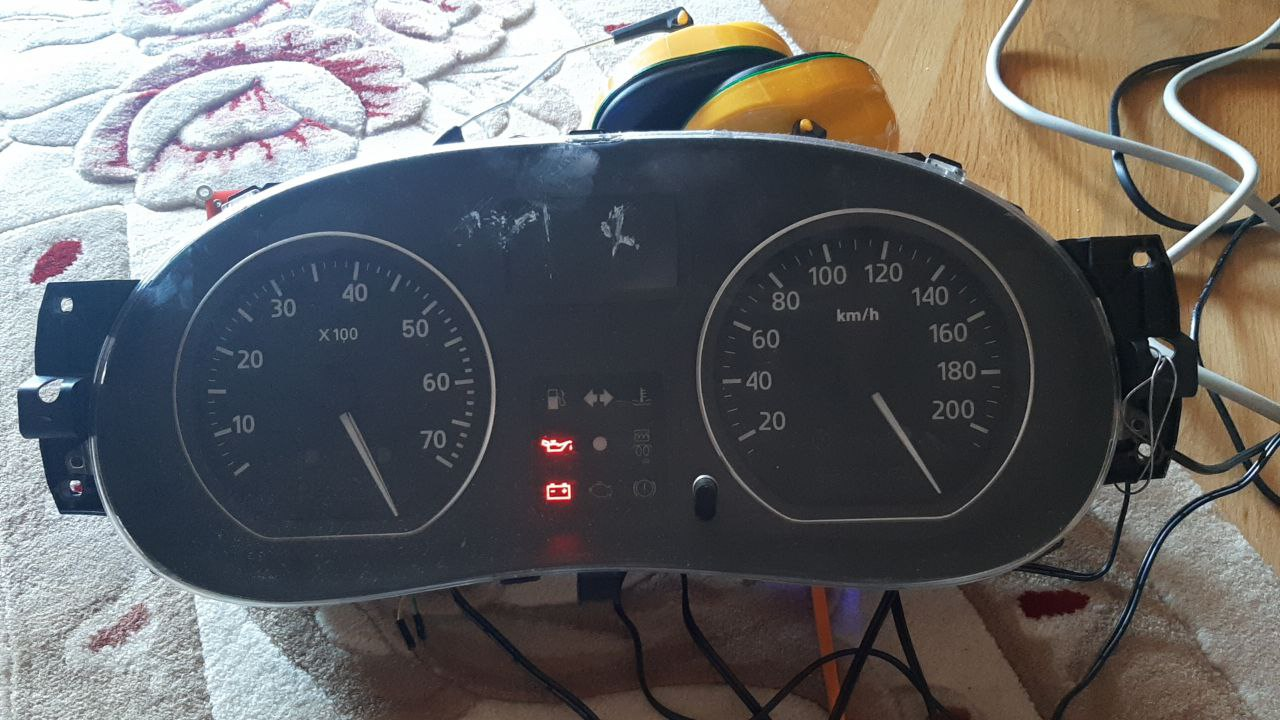accumulator: (540, 479, 577, 506)
oil: (538, 432, 578, 458)
